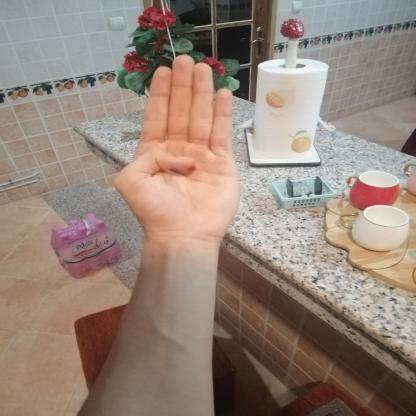KAAF: (104, 46, 258, 253)
